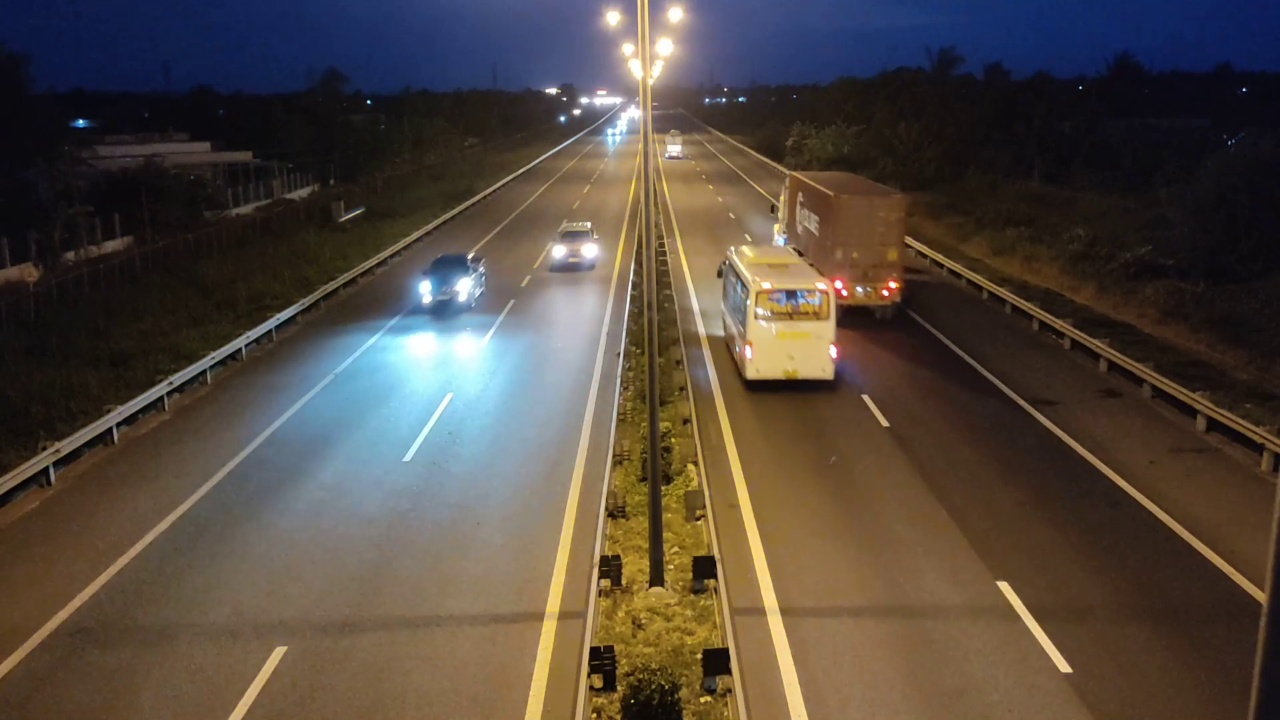bus: (715, 241, 843, 390)
car: (416, 252, 487, 317), (549, 219, 601, 272)
truck: (773, 169, 907, 323)
